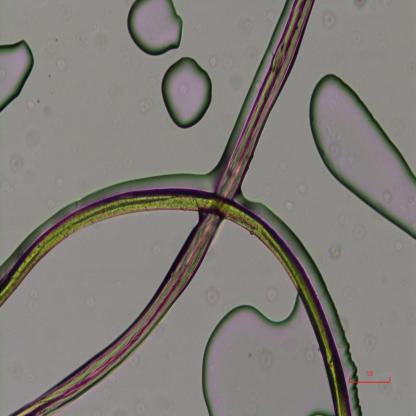Air bubble: (309, 73, 416, 238), (197, 289, 330, 415), (163, 55, 214, 130), (128, 0, 184, 54), (0, 38, 35, 116)
Background material: (204, 286, 220, 307), (323, 10, 338, 30), (352, 225, 368, 240), (364, 336, 378, 353), (265, 287, 280, 302), (380, 190, 395, 205), (329, 244, 343, 260), (285, 200, 294, 212)
Microfibre: (13, 0, 315, 416), (0, 188, 351, 415)
